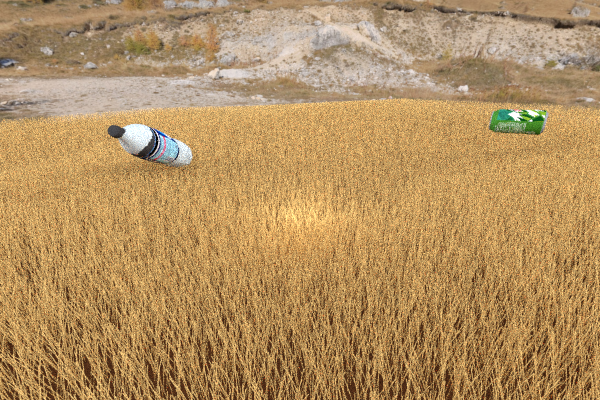bottle: (107, 123, 192, 168)
can: (488, 109, 548, 135)
